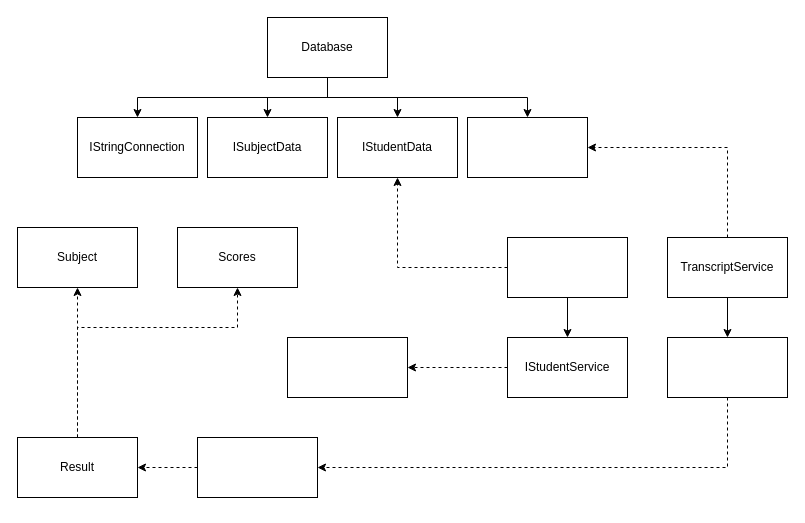
The diagram is 805 pixels wide and 523 high, and some of its shapes have lost their labels. The shapes that lost their labels are listed below. From the top down, each one's centre as x and y in pixels, then its label:
At [527,147]: "ITranscriptData".
At [567,267]: "StudentService".
At [347,367]: "Student".
At [727,367]: "ITranscriptService".
At [257,467]: "Transcript".
